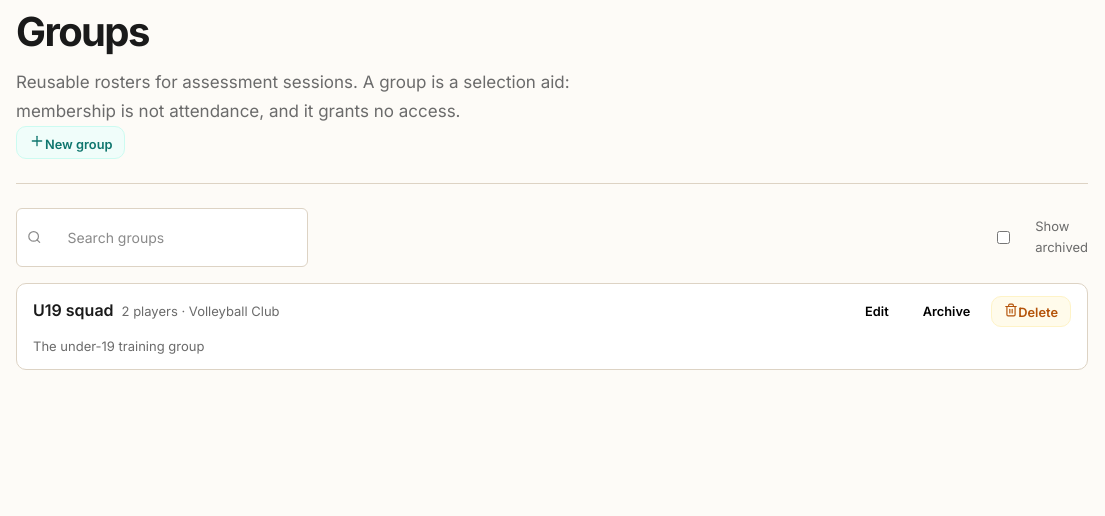
Test case: Groups catalogue › filters by the search box
Expected: the link "U19 squad" is shown, [33,298,114,324]
Step 1. Type "monday" into the search field → (173, 237), box [50,215,297,260]
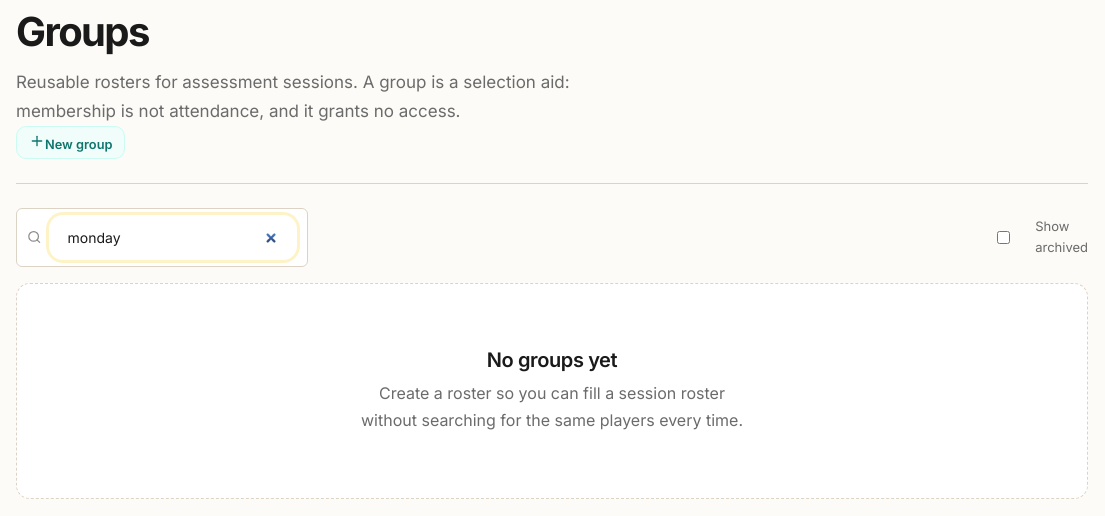
Result: the link "U19 squad" is gone
